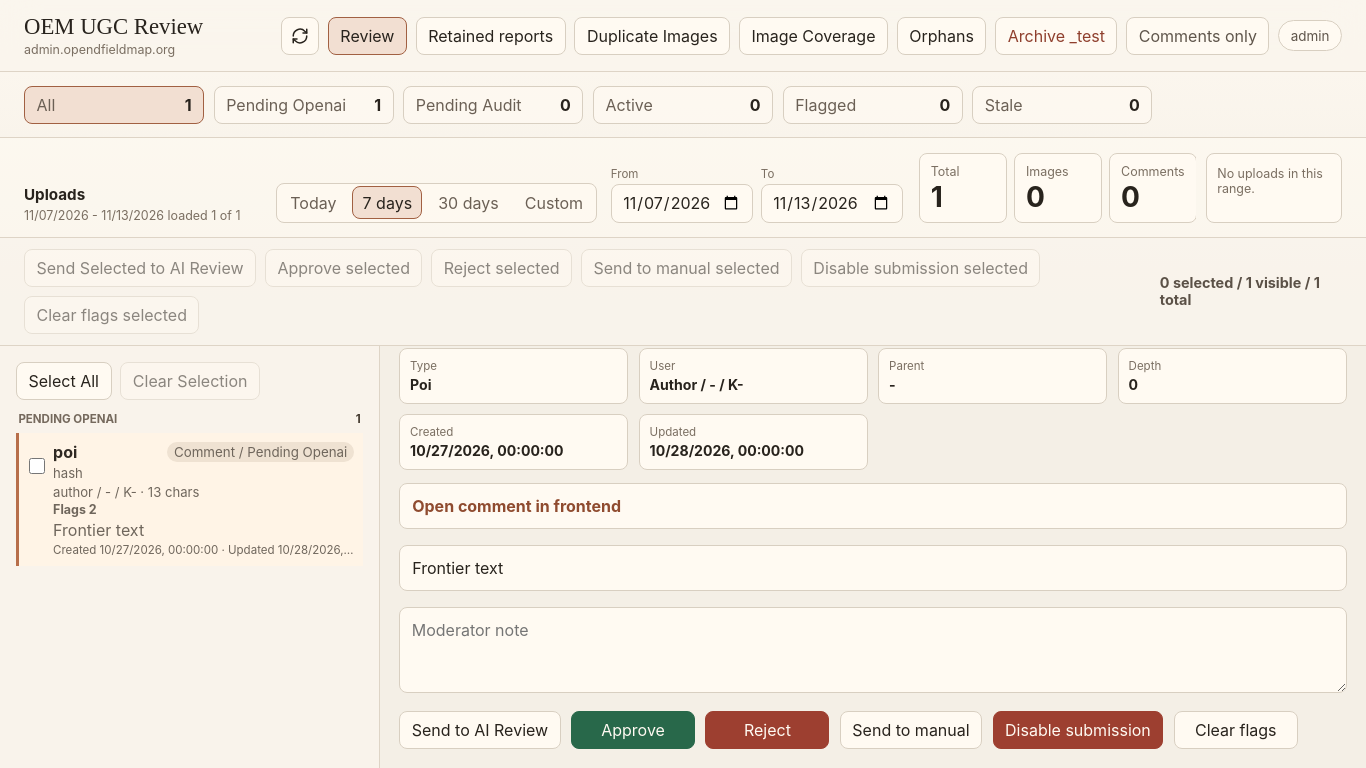
Test: requires a fresh read after a failed conflict refresh instead of offering stale actions
(page scrolled)
Step 1. Click the button "Approve" → (633, 730), box [571,711,695,749]
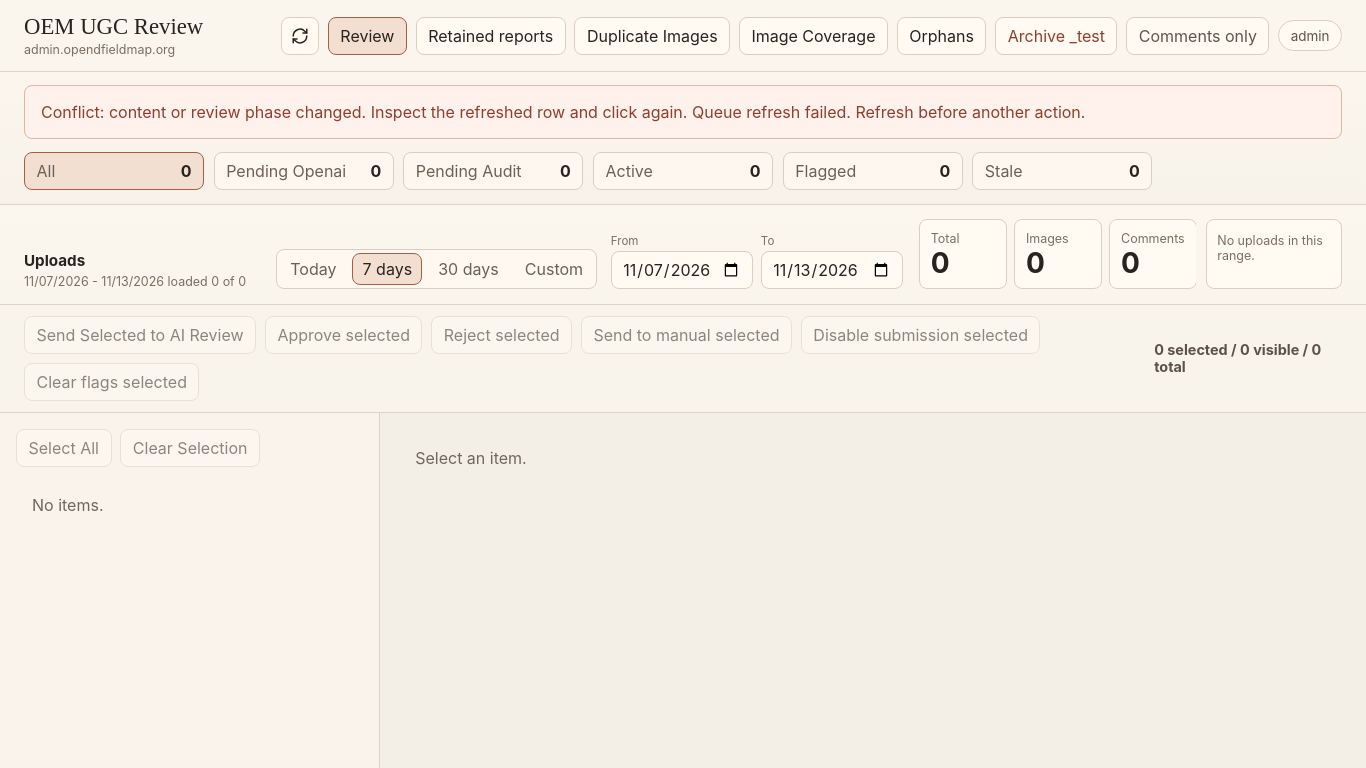
Now the text "Queue refresh failed" is shown, box [41,102,1085,122]
Now the element with class "inspector" no longer shows "Approve"
